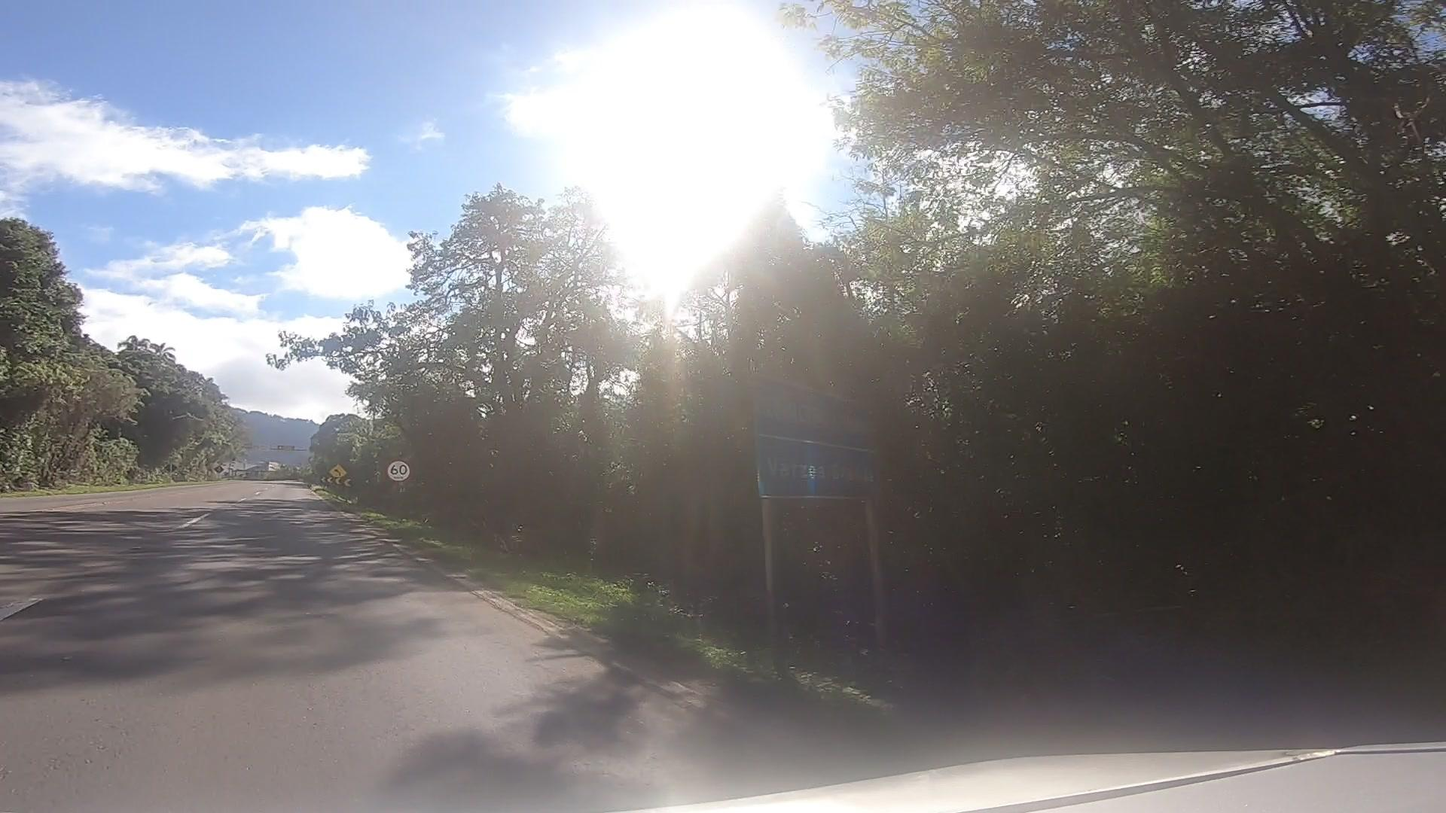R-19: (386, 456, 413, 484)
